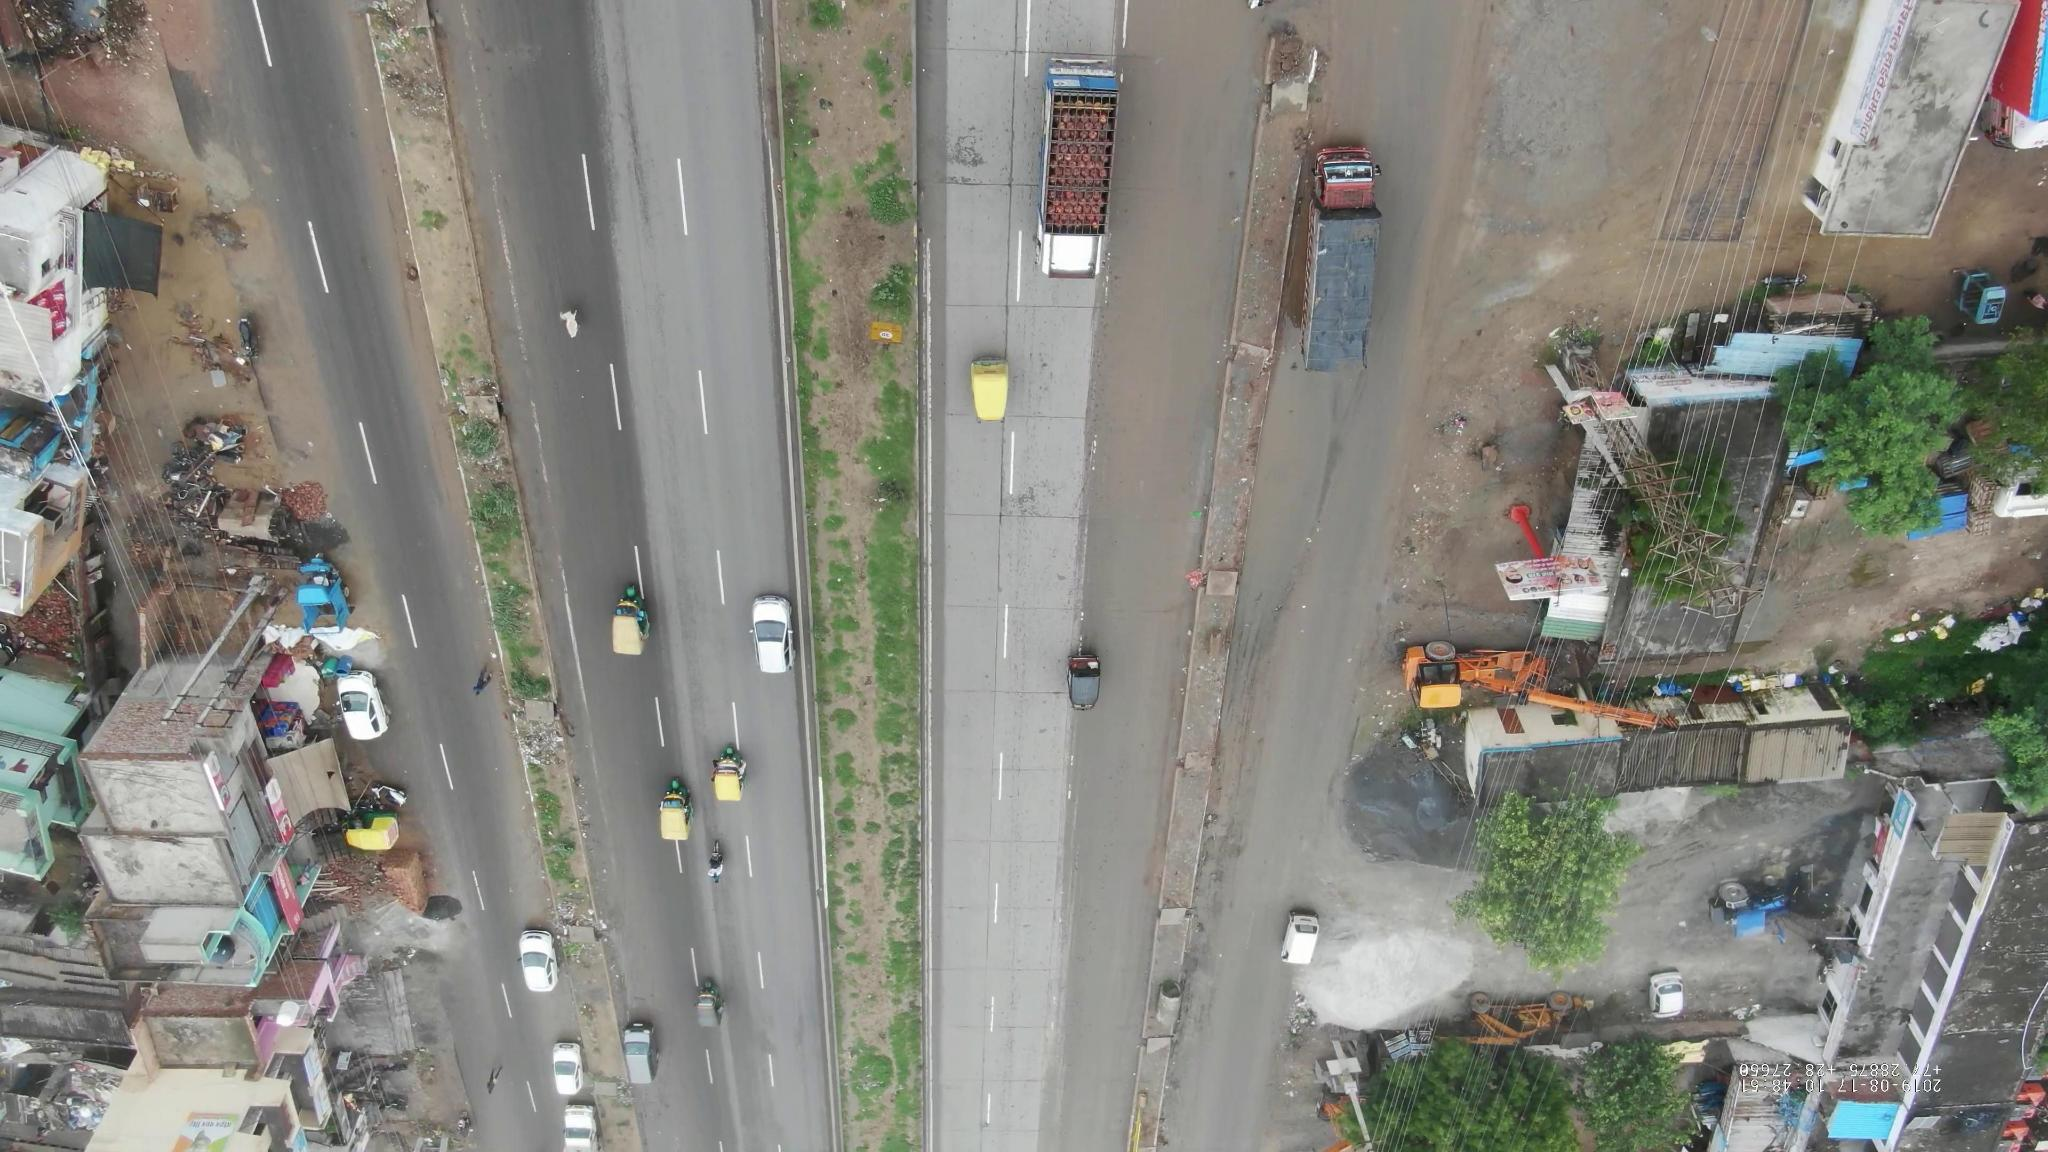Muddy_road: (260, 363, 343, 454)
Waterlogging: (1242, 388, 1348, 627)
